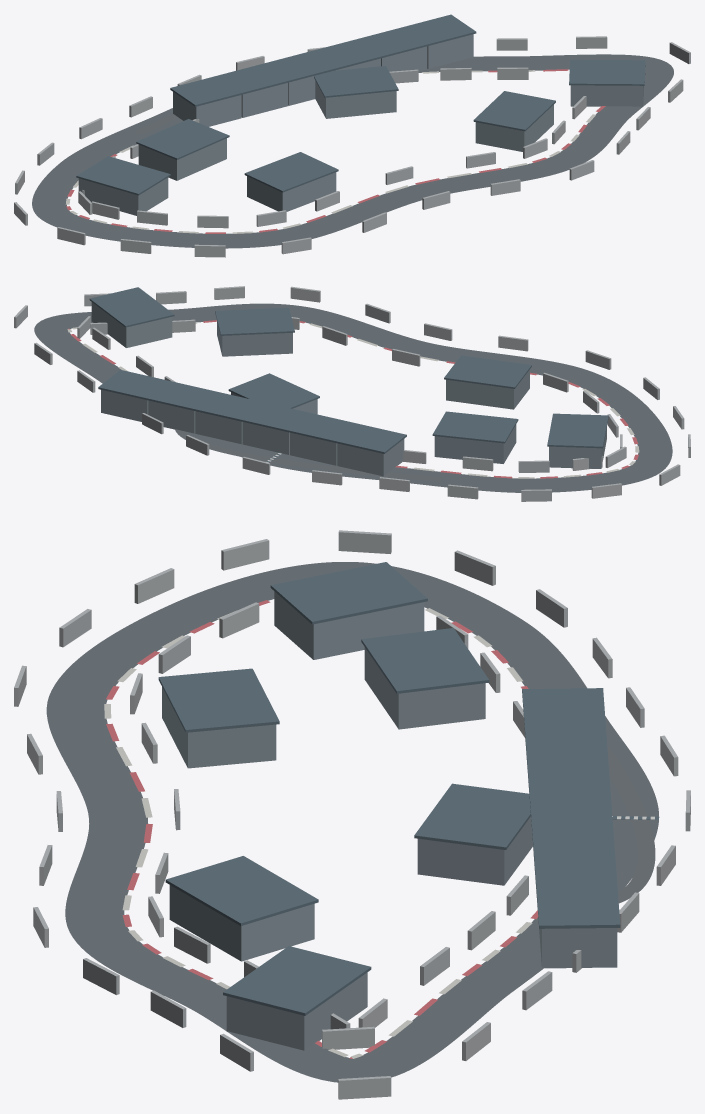
3 renders of one model, top to bottom at view 1: azimuth 30°, elevation 25°; view 2: azimuth 150°, elevation 25°; view 3: azimuth 270°, elevation 25°, orthographic. The views are drawn at different scales.
Visible parts, largest first — view 1: asphalt, grandstand_roof_3, grandstand_roof_4, grandstand_roof_5, grandstand_roof_2, grandstand_roof_1, grandstand_roof_0, grandstand_3, grandstand_5, grandstand_4, grandstand_0, grandstand_2 (+24 smaller); view 2: asphalt, grandstand_roof_3, grandstand_roof_5, grandstand_roof_1, grandstand_roof_2, grandstand_roof_4, grandstand_3, grandstand_roof_0, grandstand_1, grandstand_5, grandstand_2, pit_building_0 (+28 smaller); view 3: asphalt, grandstand_roof_4, grandstand_roof_2, grandstand_roof_1, grandstand_roof_5, grandstand_roof_3, grandstand_roof_0, grandstand_2, grandstand_4, grandstand_1, grandstand_5, grandstand_0 (+16 smaller).
Part boxes in pixels (box(x1,y1,x2,y2)): asphalt: box(32, 54, 673, 248); grandstand_roof_3: box(244, 152, 338, 192); grandstand_roof_4: box(76, 156, 170, 195); grandstand_roof_5: box(136, 119, 229, 159); grandstand_roof_2: box(473, 91, 555, 131); grandstand_roof_1: box(569, 59, 645, 85); grandstand_roof_0: box(314, 66, 398, 97); grandstand_3: box(247, 172, 336, 211); grandstand_5: box(138, 138, 226, 180); grandstand_4: box(78, 177, 168, 215); grandstand_0: box(315, 81, 396, 118); grandstand_2: box(475, 104, 553, 151); asphalt: box(34, 303, 672, 492); grandstand_roof_3: box(444, 355, 531, 388); grandstand_roof_5: box(432, 411, 518, 443); grandstand_roof_1: box(89, 287, 174, 327); grandstand_roof_2: box(215, 307, 294, 335); grandstand_roof_4: box(547, 413, 608, 448); grandstand_3: box(446, 369, 529, 409); grandstand_roof_0: box(228, 373, 319, 408); grandstand_1: box(91, 302, 172, 347); grandstand_5: box(434, 424, 516, 463); grandstand_2: box(217, 321, 292, 356); pit_building_0: box(337, 439, 404, 476); asphalt: box(46, 562, 658, 1082); grandstand_roof_4: box(270, 562, 427, 624); grandstand_roof_2: box(165, 856, 318, 925); grandstand_roof_1: box(223, 946, 371, 1015); grandstand_roof_5: box(361, 628, 489, 693); grandstand_roof_3: box(158, 668, 279, 732); grandstand_roof_0: box(414, 783, 530, 849); grandstand_2: box(169, 885, 314, 961); grandstand_4: box(274, 591, 424, 659); grandstand_1: box(226, 972, 367, 1050); grandstand_5: box(364, 647, 485, 729); grandstand_0: box(417, 816, 532, 885).
Bounding box in the file's own units: 69.06 × 2.64 × 35.88.
